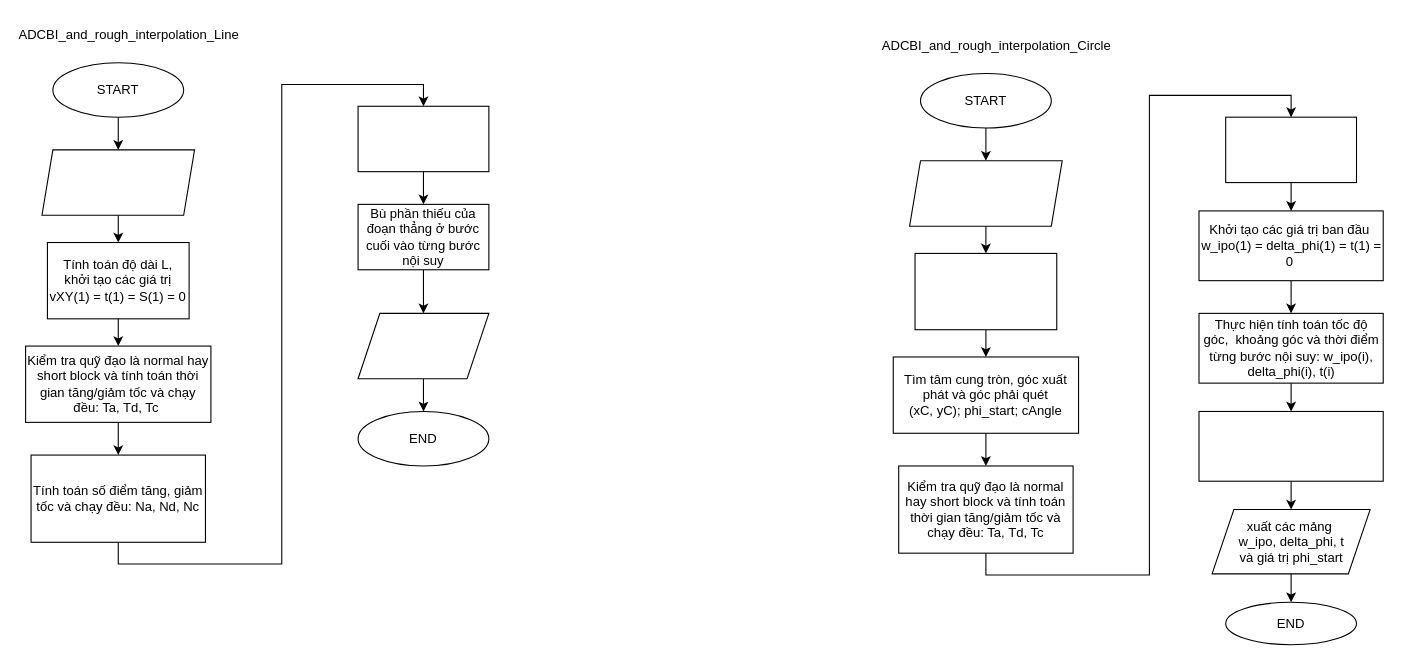
Some shapes in this 1402 by 664 pixel diagram are drawn without their labels. Here are the shapes that lost their labels. From the top down, the box of each, then its label:
(357, 105, 489, 172): Thực hiện tăng giảm tốc, tính các giá trị vXY(i), S(i), t(i)
(1225, 116, 1357, 183): Tính toán số điểm tăng/giảm tốc và chạy đều Na, Nd, Nc
(41, 149, 195, 215): x_start, y_start, x_end, y_end, A, D, Tipo, F
(909, 160, 1062, 226): x_start, y_start, x_end, y_end, R, direction, A, D, Tipo, F
(914, 252, 1057, 330): Mã hóa chiều quay dir và quy đổi các thông số về đơn vị góc beta_A, beta_D, W
(357, 312, 489, 379): xuất các mảng vXY, S, t
(1198, 410, 1383, 481): Bù trừ khoảng thiếu của góc vào từng chu kì nội suy
